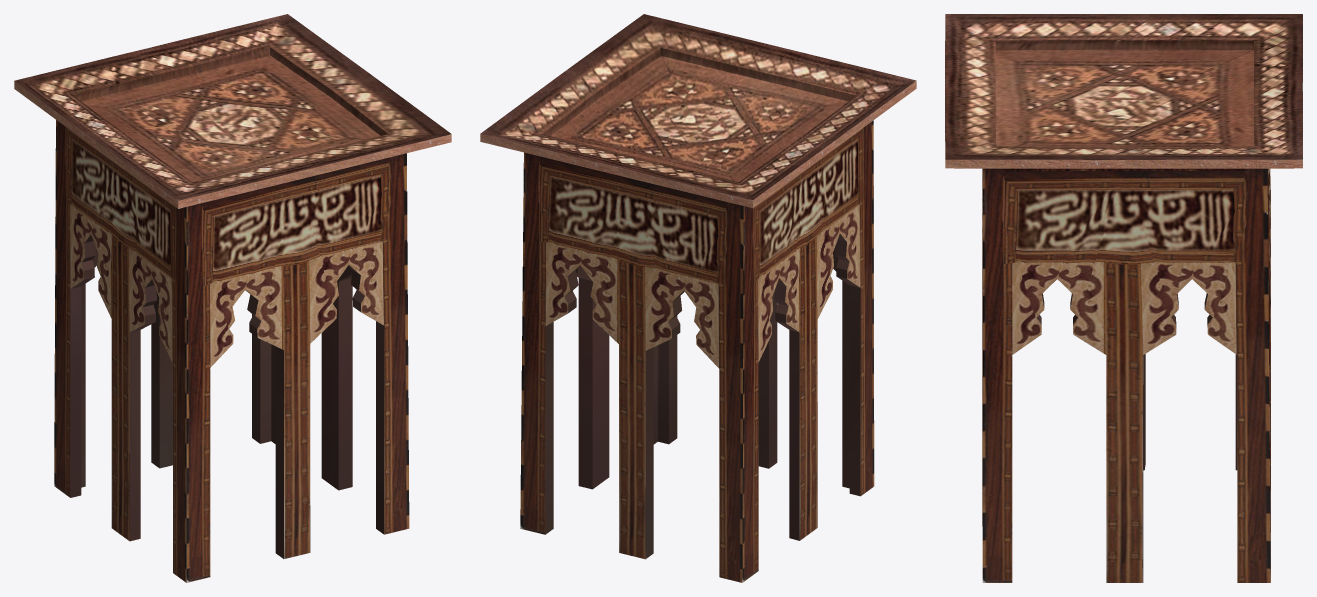
The model's file is CoffeeTable2A.fbx.
The picture shows the model from 3 angles, left to right: view 1: azimuth 30°, elevation 25°; view 2: azimuth 150°, elevation 25°; view 3: azimuth 270°, elevation 25°; orthographic projection. The views are drawn at different scales.
Parts seen in each view (by area): view 1: CoffeeTable2A; view 2: CoffeeTable2A; view 3: CoffeeTable2A.
Boxes of the visible parts, x1,y1,x2,y2 form: CoffeeTable2A: [14, 14, 451, 582]; CoffeeTable2A: [480, 14, 916, 582]; CoffeeTable2A: [945, 14, 1302, 582].
Size of the model in its own units: 52.28 by 73 by 54.21.
